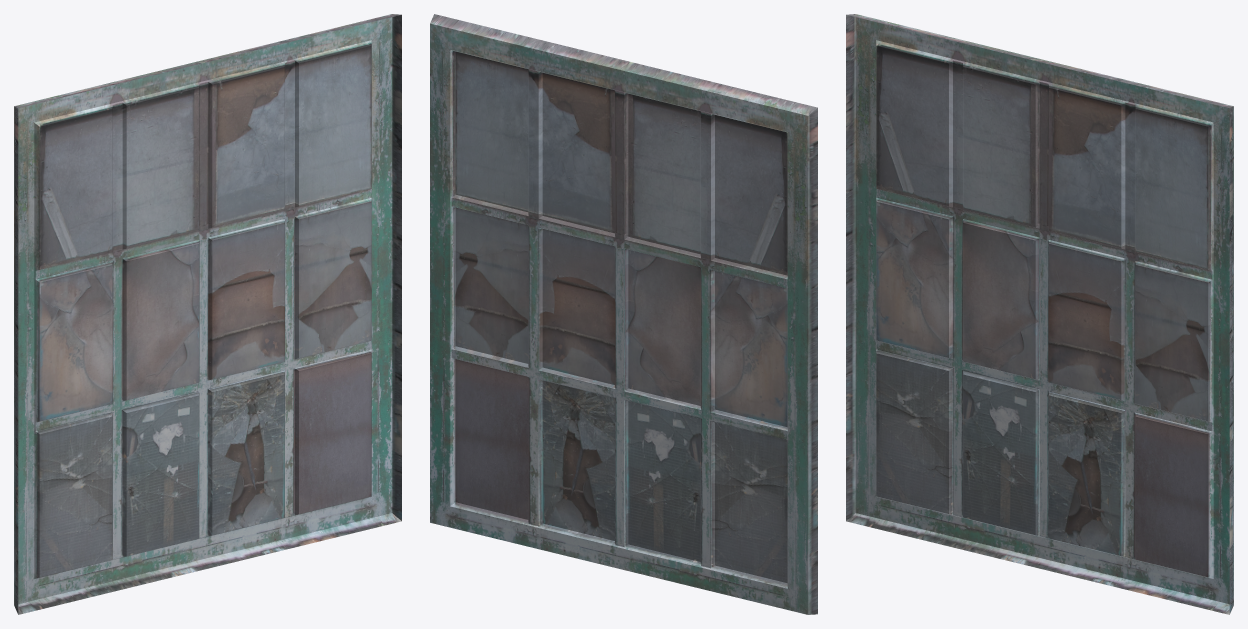
The model's file is sm_Wall_06_18_Window.fbx.
3 views of the same model, side by side, from view 1: azimuth 30°, elevation 25°; view 2: azimuth 150°, elevation 25°; view 3: azimuth 330°, elevation 25° (orthographic).
Visible parts, largest first — view 1: sm_Wall_06_18_Window_LOD0; view 2: sm_Wall_06_18_Window_LOD0; view 3: sm_Wall_06_18_Window_LOD0.
Part boxes in pixels (box(x1,y1,x2,y2)): sm_Wall_06_18_Window_LOD0: box(14, 14, 401, 614); sm_Wall_06_18_Window_LOD0: box(430, 14, 817, 614); sm_Wall_06_18_Window_LOD0: box(846, 14, 1233, 614).
Size of the model in its own units: 5.46 by 172 by 217.
